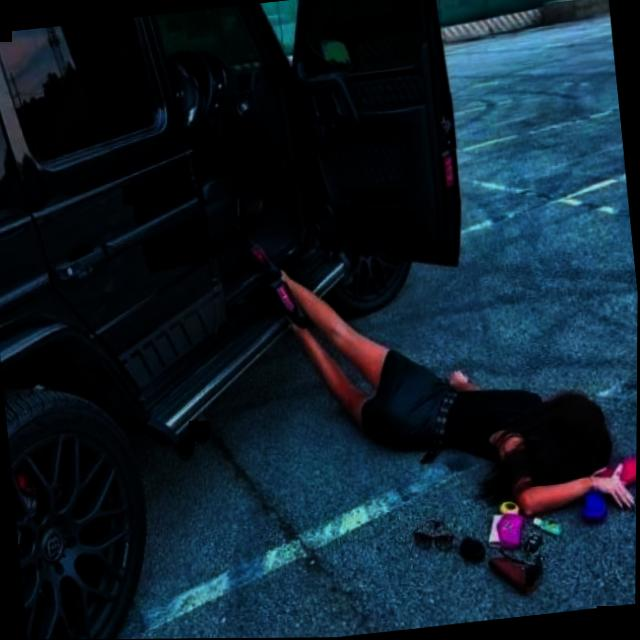Fall-Detected: (243, 189, 639, 570)
